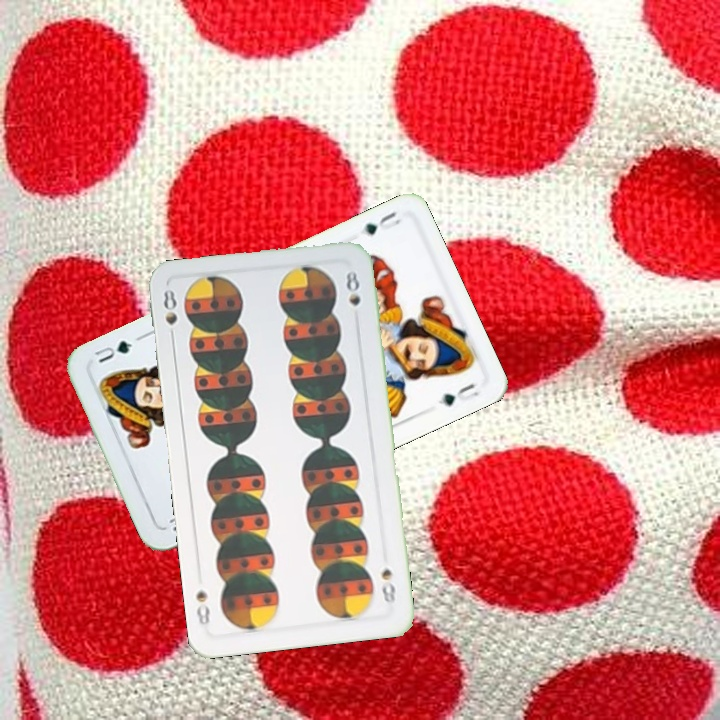GU: (359, 207, 403, 238)
S8: (159, 285, 180, 344), (377, 564, 398, 611)
